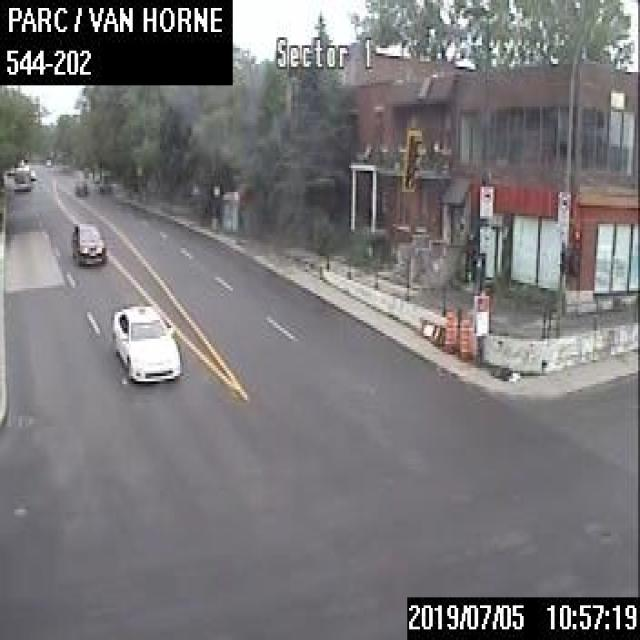bus: (12, 162, 30, 188)
construction: (444, 308, 456, 352), (457, 315, 469, 358)
vehicle: (111, 302, 180, 382), (70, 220, 106, 261), (74, 177, 86, 194)
